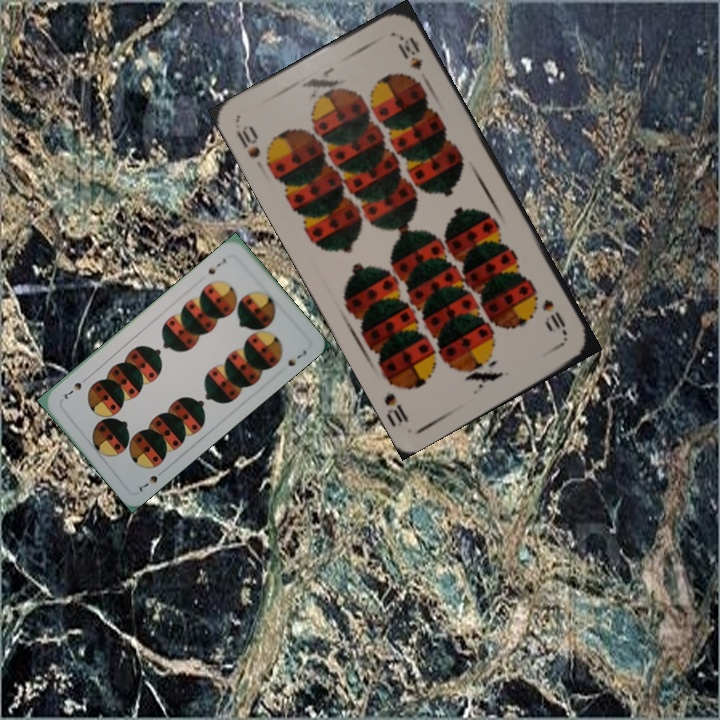S10: (538, 295, 570, 338), (231, 120, 263, 161)
S7: (133, 465, 168, 495), (204, 254, 229, 277)
